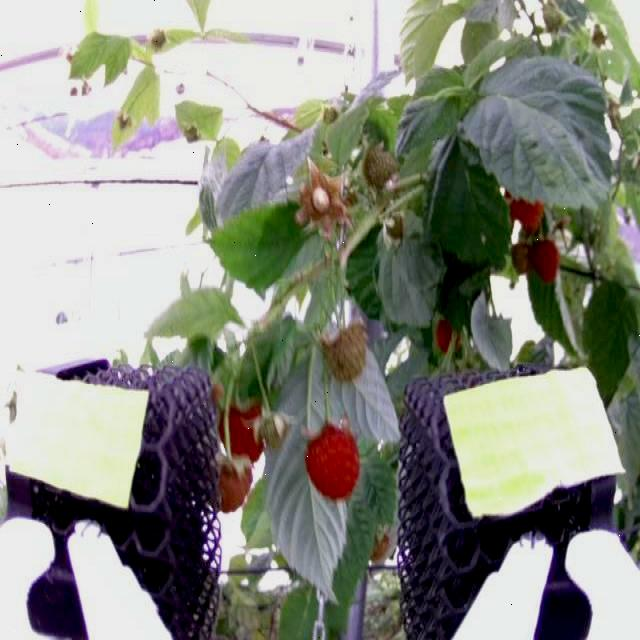Riped berries: (302, 420, 366, 505), (218, 392, 268, 457), (532, 240, 566, 282), (513, 184, 544, 229), (435, 314, 462, 354)
